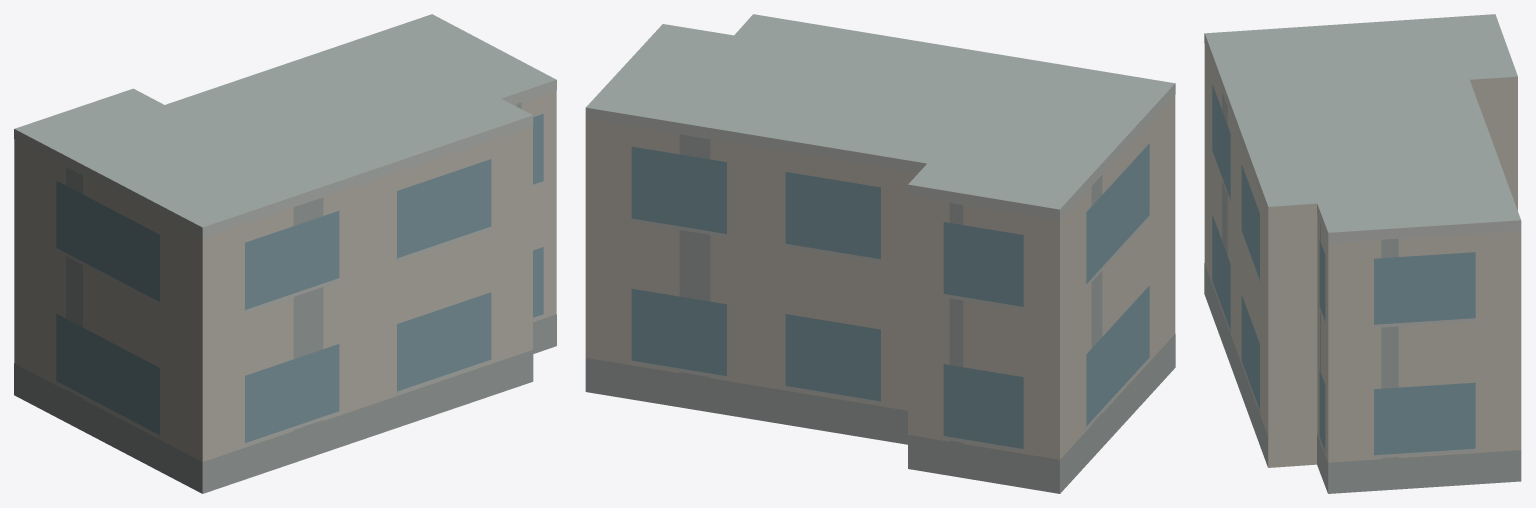
The model's file is residential-158211d2-b06c-4233-a5ad-2034ef8aff9e.glb.
3 views of the same model, side by side, from view 1: azimuth 30°, elevation 25°; view 2: azimuth 150°, elevation 25°; view 3: azimuth 270°, elevation 25° (orthographic). The views are drawn at different scales.
Visible parts, largest first — view 1: residential-158211d2-b06c-4233-a5ad-2034ef8aff9e.tmp; view 2: residential-158211d2-b06c-4233-a5ad-2034ef8aff9e.tmp; view 3: residential-158211d2-b06c-4233-a5ad-2034ef8aff9e.tmp.
Boxes of the visible parts, bbox=[...] form: residential-158211d2-b06c-4233-a5ad-2034ef8aff9e.tmp: bbox=[14, 14, 556, 493]; residential-158211d2-b06c-4233-a5ad-2034ef8aff9e.tmp: bbox=[585, 14, 1175, 493]; residential-158211d2-b06c-4233-a5ad-2034ef8aff9e.tmp: bbox=[1204, 14, 1521, 493].
Size of the model in its own units: 10.97 by 6.1 by 6.71.
